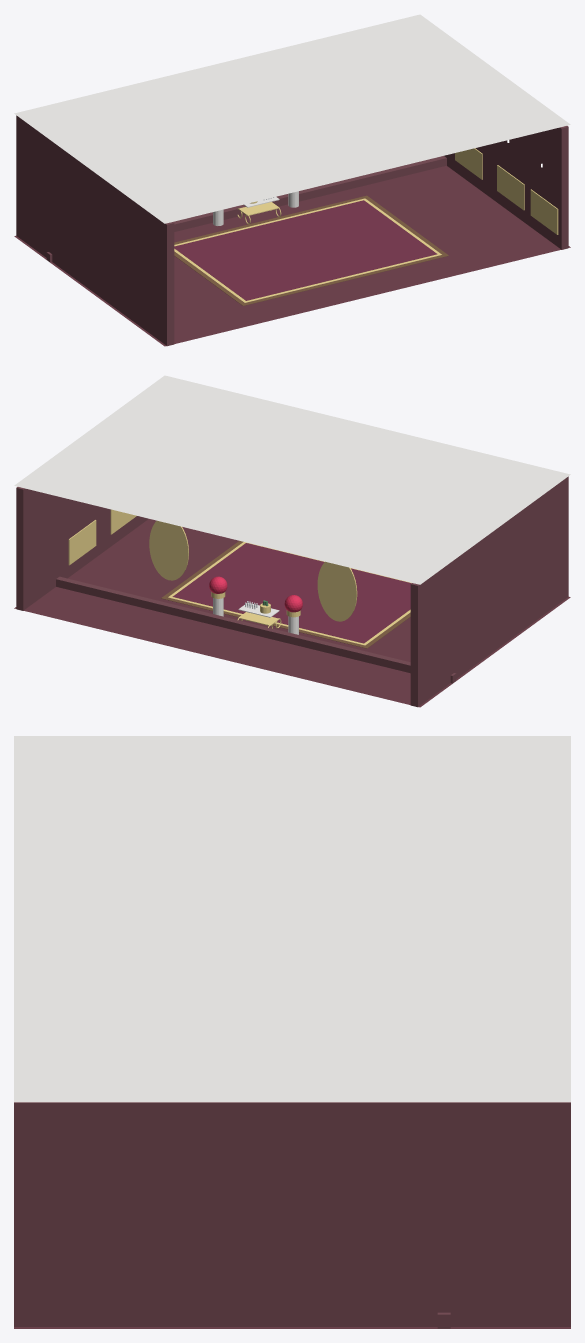
Rendered from room_dama_salon.glb.
3 renders of one model, top to bottom at view 1: azimuth 30°, elevation 25°; view 2: azimuth 150°, elevation 25°; view 3: azimuth 270°, elevation 25°, orthographic. The views are drawn at different scales.
Visible parts, largest first — view 1: Plane, Floor, SideWall_Left, ClubRug_Inner, SideWall_Right, Baseboard, ClubRug_Outer, ClubRug_Stripe, SideBoiserieFrame_Right_-5.5, SideBoiserieFrame_Right_-1.5, SideBoiserieFrame_Right_3.5; view 2: Plane, Floor, SideWall_Left, ClubRug_Inner, SideWall_Right, Baseboard, OvalMirrorFrame_-5.8, OvalMirrorFrame_5.8, ClubRug_Outer, ClubRug_Stripe, SideBoiserieFrame_Right_3.5; view 3: Plane, SideWall_Right, Floor.
Part boxes in pixels (bbox=[...]): Plane: bbox=[14, 14, 570, 223]; Floor: bbox=[14, 165, 570, 346]; SideWall_Left: bbox=[16, 115, 174, 346]; ClubRug_Inner: bbox=[174, 200, 437, 300]; SideWall_Right: bbox=[444, 126, 568, 249]; Baseboard: bbox=[46, 156, 446, 262]; ClubRug_Outer: bbox=[174, 195, 448, 305]; ClubRug_Stripe: bbox=[174, 198, 441, 302]; SideBoiserieFrame_Right_-5.5: bbox=[530, 189, 558, 234]; SideBoiserieFrame_Right_-1.5: bbox=[497, 165, 524, 210]; SideBoiserieFrame_Right_3.5: bbox=[455, 148, 482, 179]; Plane: bbox=[14, 375, 570, 584]; Floor: bbox=[14, 519, 570, 707]; SideWall_Left: bbox=[410, 476, 568, 707]; ClubRug_Inner: bbox=[172, 543, 411, 643]; SideWall_Right: bbox=[16, 487, 148, 610]; Baseboard: bbox=[56, 576, 456, 683]; OvalMirrorFrame_-5.8: bbox=[317, 561, 357, 621]; OvalMirrorFrame_5.8: bbox=[149, 520, 188, 580]; ClubRug_Outer: bbox=[161, 541, 410, 648]; ClubRug_Stripe: bbox=[168, 542, 411, 645]; SideBoiserieFrame_Right_3.5: bbox=[68, 520, 96, 565]; Plane: bbox=[14, 736, 570, 1102]; SideWall_Right: bbox=[14, 1102, 570, 1326]; Floor: bbox=[14, 1327, 570, 1328].
Size of the model in its own units: 28 by 8.1 by 18.
